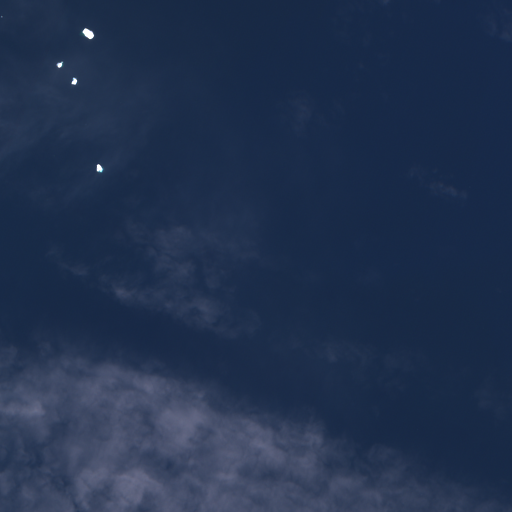Iceberg: (82, 28, 93, 39), (96, 164, 103, 172), (56, 61, 63, 67), (71, 77, 77, 84), (1, 16, 2, 17)
